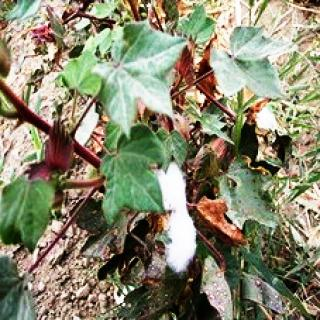wilt: (195, 188, 243, 242), (29, 122, 71, 180), (182, 40, 212, 96)
